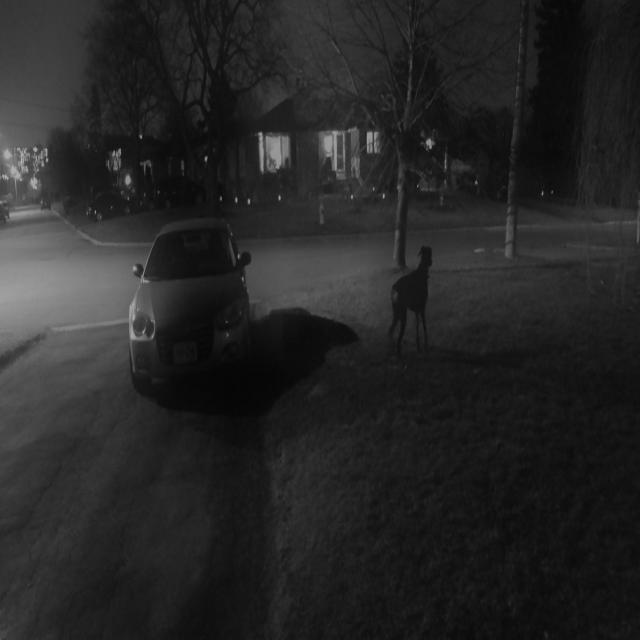Dog: (331, 213, 465, 389)
